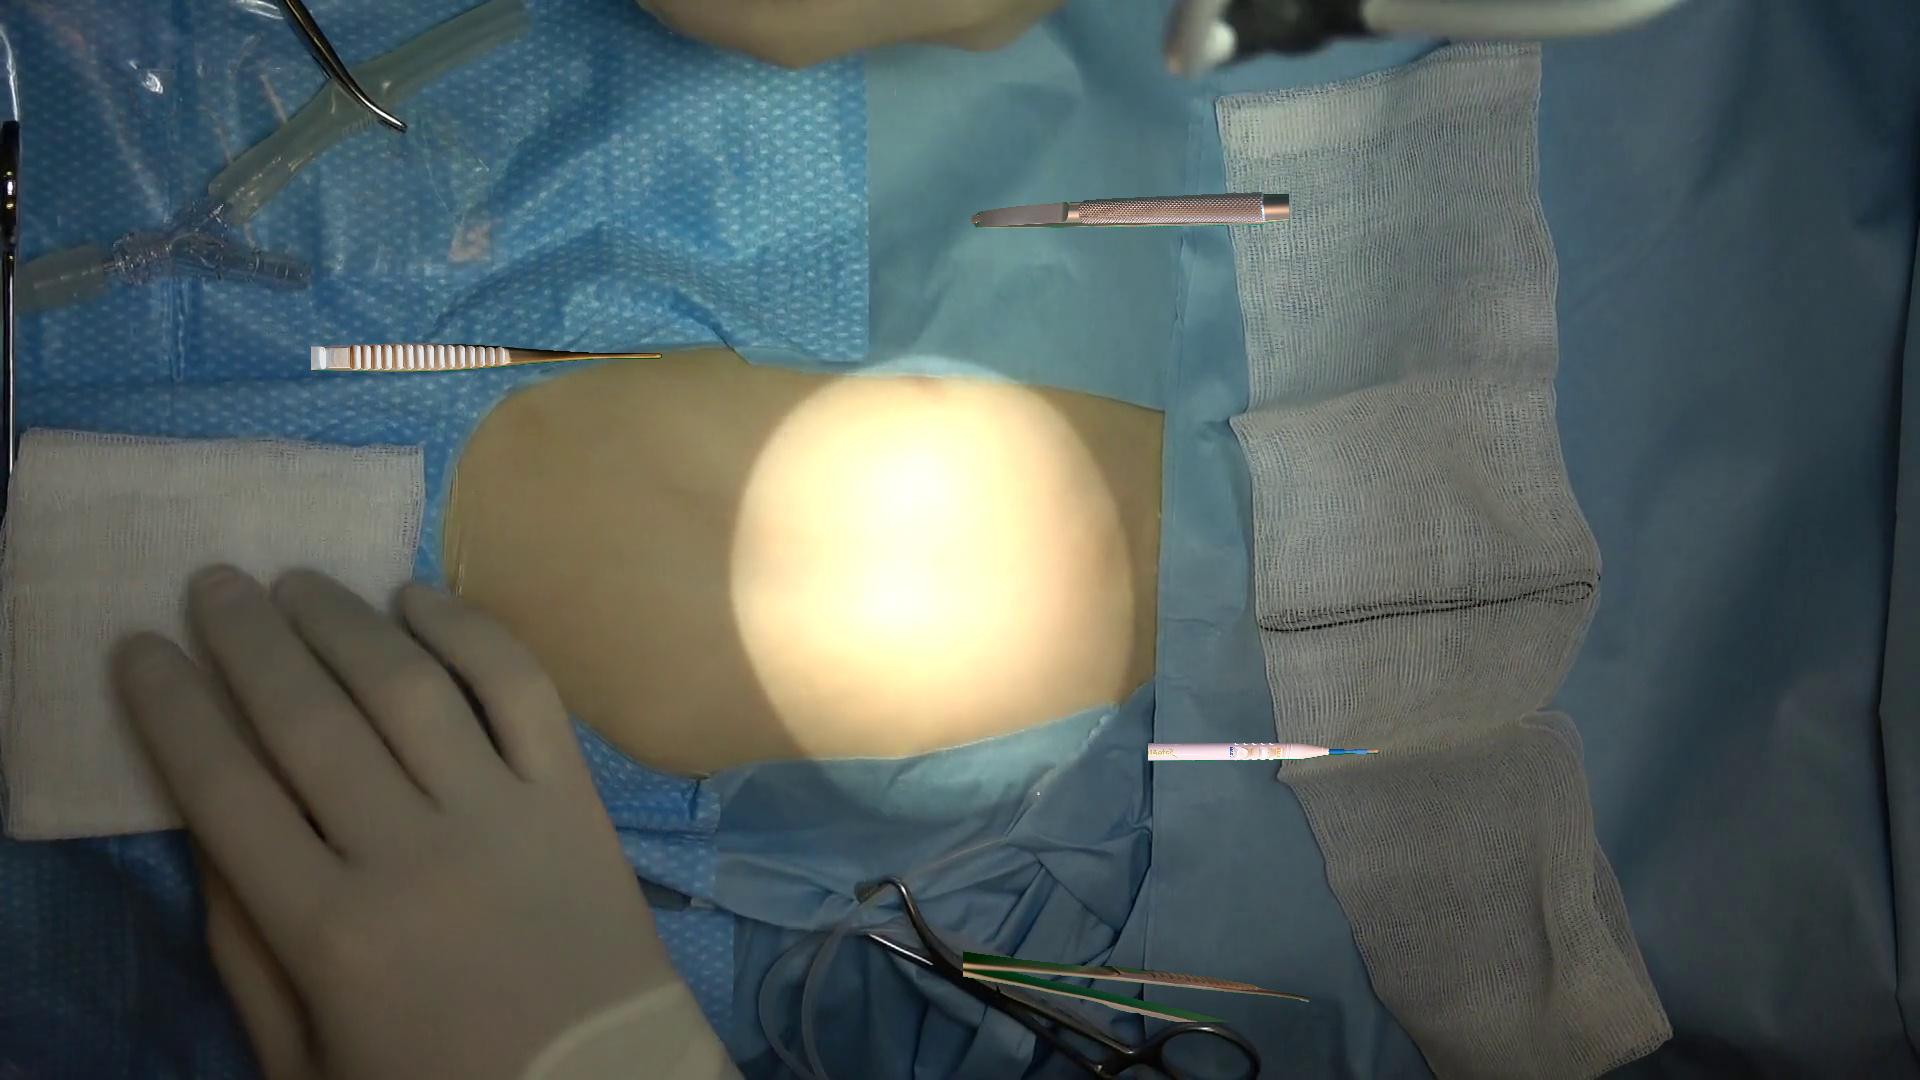diathermy: (1149, 742, 1378, 760)
forceps: (963, 951, 1308, 1021), (311, 343, 661, 371)
